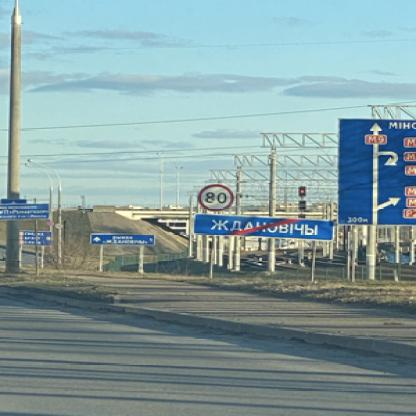speedlimit: (197, 181, 231, 211)
